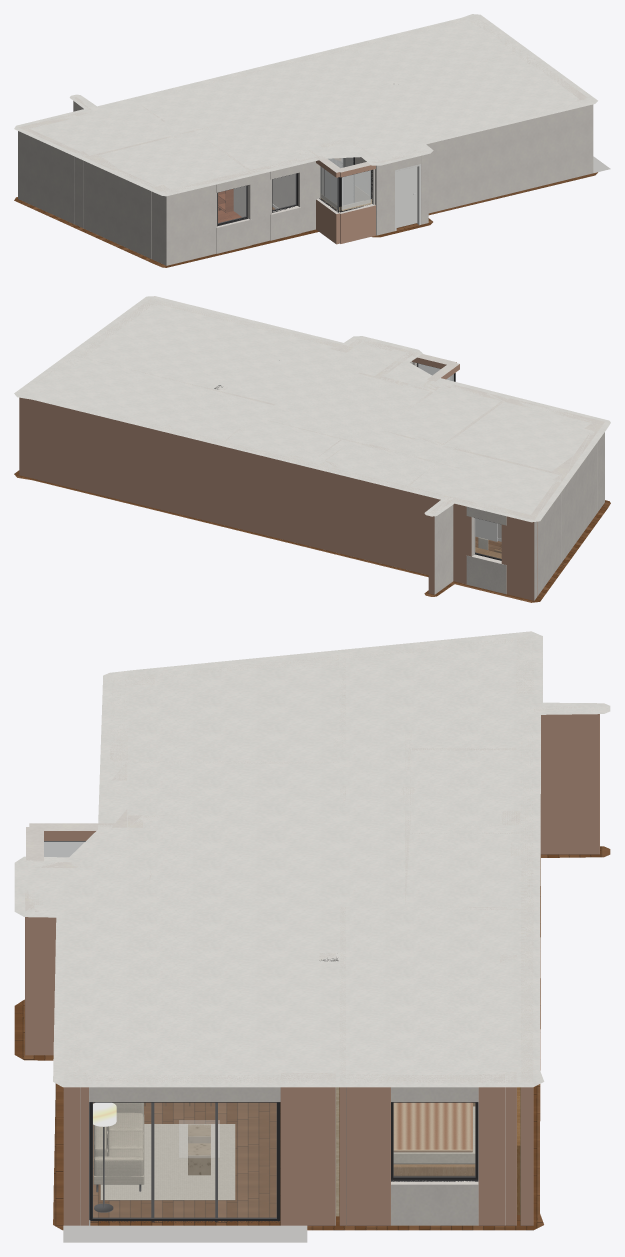
Rendered from mobiliario.glb.
3 renders of one model, top to bottom at view 1: azimuth 30°, elevation 25°; view 2: azimuth 150°, elevation 25°; view 3: azimuth 270°, elevation 25°, orthographic. The views are drawn at different scales.
Visible parts, largest first — view 1: techo, muro_078, muro_072, muro_033, muro_053, muro_049, suelo, muro_070, muro_086, muro_068, phoja_PE, antepecho_V03 (+18 smaller); view 2: techo, muro_002, falso_techo_cocina, muro_004, suelo, muro_033, muro_001, muro_053, antepecho_V08, falso_techo_bano-2, falso_techo_recibidor, muro_049 (+8 smaller); view 3: techo, vidrio_V01, suelo, muro_000, muro_046, falso_techo_vestidor, muro_034, alfombra, vidrio_V02, pav_terraza, dp_manta, muro_014 (+22 smaller).
Boxes of the visible parts, x1=… form: techo: x1=14, y1=14, x2=597, y2=196; muro_078: x1=426, y1=104, x2=593, y2=213; muro_072: x1=160, y1=184, x2=217, y2=265; muro_033: x1=24, y1=132, x2=79, y2=224; muro_053: x1=113, y1=172, x2=155, y2=258; muro_049: x1=86, y1=159, x2=117, y2=241; suelo: x1=14, y1=158, x2=597, y2=267; muro_070: x1=247, y1=169, x2=271, y2=244; muro_086: x1=374, y1=160, x2=394, y2=235; muro_068: x1=298, y1=157, x2=320, y2=232; phoja_PE: x1=396, y1=167, x2=417, y2=227; antepecho_V03: x1=336, y1=204, x2=375, y2=243; techo: x1=14, y1=296, x2=610, y2=522; muro_002: x1=19, y1=397, x2=471, y2=584; falso_techo_cocina: x1=263, y1=366, x2=412, y2=442; muro_004: x1=501, y1=509, x2=534, y2=600; suelo: x1=14, y1=470, x2=610, y2=602; muro_033: x1=537, y1=481, x2=561, y2=596; muro_001: x1=434, y1=499, x2=453, y2=594; muro_053: x1=579, y1=431, x2=597, y2=537; antepecho_V08: x1=466, y1=554, x2=506, y2=594; falso_techo_bano-2: x1=338, y1=443, x2=434, y2=484; falso_techo_recibidor: x1=329, y1=342, x2=398, y2=375; muro_049: x1=567, y1=455, x2=579, y2=554; techo: x1=14, y1=631, x2=610, y2=1087; vidrio_V01: x1=93, y1=1103, x2=276, y2=1218; suelo: x1=14, y1=846, x2=610, y2=1230; muro_000: x1=540, y1=707, x2=599, y2=854; muro_046: x1=280, y1=1073, x2=335, y2=1225; falso_techo_vestidor: x1=347, y1=910, x2=518, y2=969; muro_034: x1=346, y1=1076, x2=390, y2=1225; alfombra: x1=100, y1=1124, x2=235, y2=1200; vidrio_V02: x1=393, y1=1103, x2=475, y2=1177; pav_terraza: x1=63, y1=1225, x2=307, y2=1242; dp_manta: x1=393, y1=1102, x2=472, y2=1152; muro_014: x1=478, y1=1074, x2=505, y2=1225.
Bounding box in the file's own units: 17.26 × 2.46 × 9.28.
Materials: 39 (19 with a texture image).
